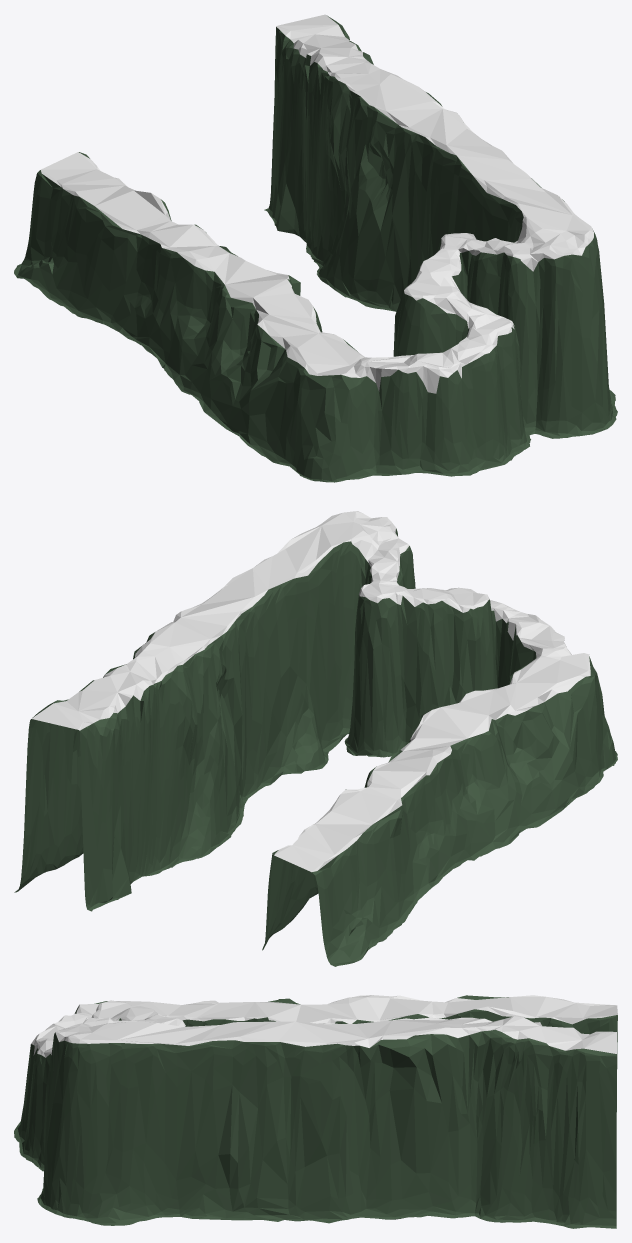
Rendered from Level1.fbx.
3 renders of one model, top to bottom at view 1: azimuth 30°, elevation 25°; view 2: azimuth 150°, elevation 25°; view 3: azimuth 270°, elevation 25°, orthographic. The views are drawn at different scales.
Visible parts, largest first — view 1: Terrain:Mesh; view 2: Terrain:Mesh; view 3: Terrain:Mesh.
Boxes of the visible parts, box(x1,y1,x2,y2) form: Terrain:Mesh: box(14, 14, 617, 482); Terrain:Mesh: box(14, 511, 617, 966); Terrain:Mesh: box(14, 995, 617, 1228).
Size of the model in its own units: 13.84 by 7.62 by 23.07.
